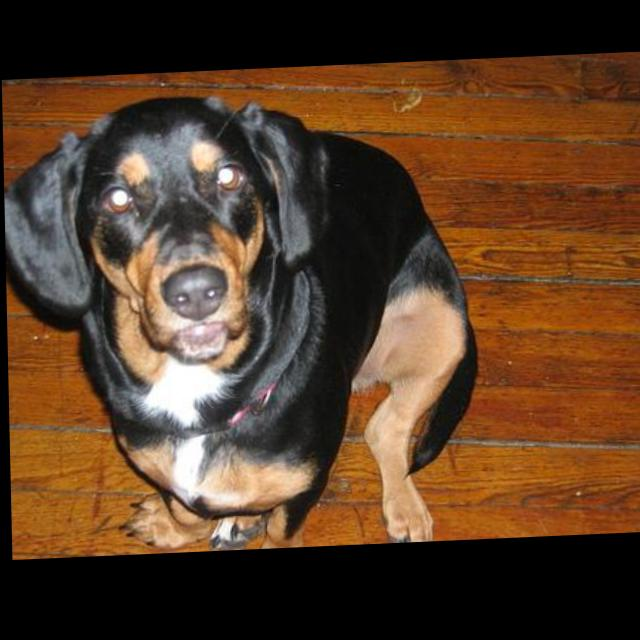rottweiler: (3, 87, 482, 561)
